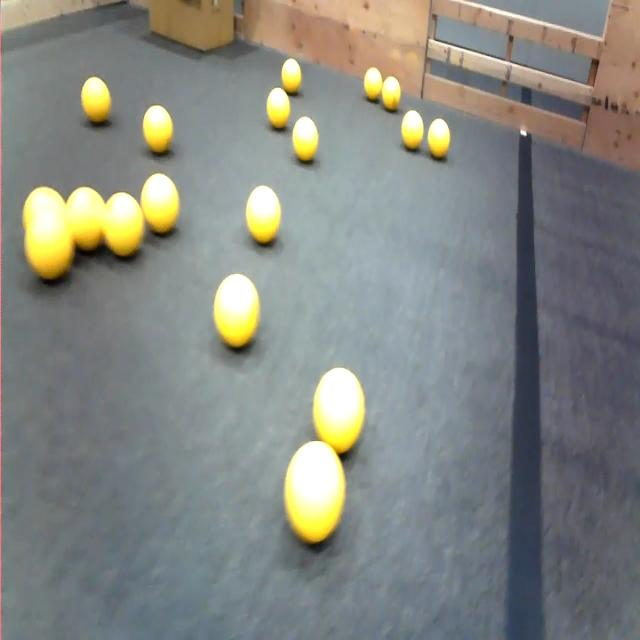fuel: (284, 441, 345, 543), (313, 368, 365, 454), (24, 206, 74, 280), (213, 274, 259, 348), (103, 192, 144, 257), (66, 187, 105, 251), (140, 174, 179, 234), (246, 185, 281, 244), (23, 186, 65, 229), (143, 105, 173, 154), (81, 77, 111, 124), (292, 116, 318, 162), (267, 88, 290, 129), (428, 119, 450, 159), (402, 110, 423, 150), (281, 58, 301, 94), (382, 76, 401, 111), (364, 68, 382, 101)
